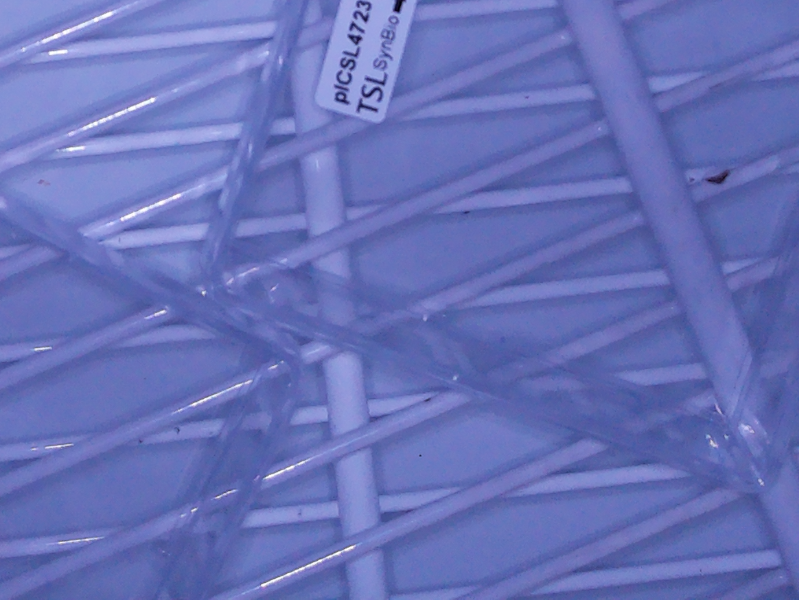plate: (197, 1, 799, 493), (1, 199, 305, 600)
